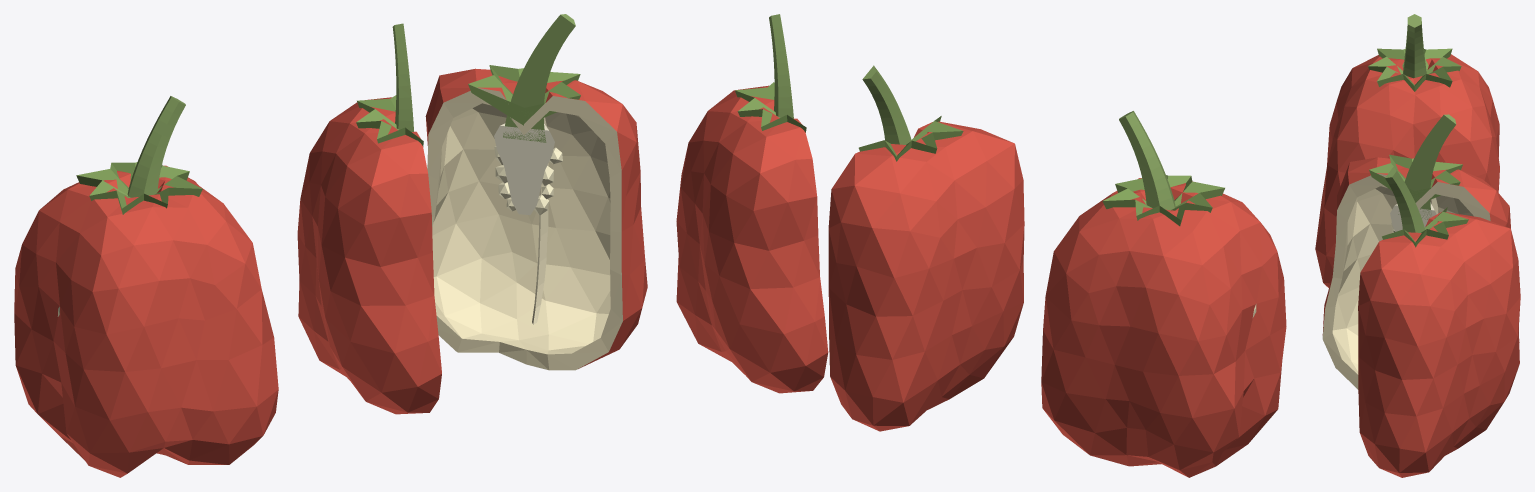
Rendered from chile panameño.fbx.
3 renders of one model, left to right at view 1: azimuth 30°, elevation 25°; view 2: azimuth 150°, elevation 25°; view 3: azimuth 270°, elevation 25°, orthographic. The views are drawn at different scales.
Parts seen in each view (by area): view 1: Entero_Cascara, MitadA_Cascara.001, MitadA_Cascara, MitadA_Placenta.001, MitadA_Tallo.001, Entero_Caliz, Entero_Tallo, MitadA_Caliz.001, MitadA_Tallo, MitadA_Caliz, MitadA_Semillas.001, MitadA_Tabiques.001; view 2: Entero_Cascara, MitadA_Cascara, MitadA_Cascara.001, Entero_Caliz, Entero_Tallo, MitadA_Tallo, MitadA_Tallo.001, MitadA_Caliz.001, MitadA_Caliz; view 3: MitadA_Cascara.001, Entero_Cascara, MitadA_Cascara, MitadA_Tallo, Entero_Caliz, MitadA_Caliz, MitadA_Tallo.001, Entero_Tallo, MitadA_Caliz.001, MitadA_Placenta.
Part boxes in pixels (<box>): Entero_Cascara: <box>14,165,278,477</box>; MitadA_Cascara.001: <box>425,68,647,370</box>; MitadA_Cascara: <box>297,97,441,414</box>; MitadA_Placenta.001: <box>494,123,554,215</box>; MitadA_Tallo.001: <box>503,14,575,142</box>; Entero_Caliz: <box>76,162,202,214</box>; Entero_Tallo: <box>127,96,185,197</box>; MitadA_Caliz.001: <box>468,65,580,125</box>; MitadA_Tallo: <box>392,23,413,131</box>; MitadA_Caliz: <box>356,95,423,146</box>; MitadA_Semillas.001: <box>494,146,562,215</box>; MitadA_Tabiques.001: <box>532,117,548,324</box>; Entero_Cascara: <box>1041,178,1286,477</box>; MitadA_Cascara: <box>828,121,1024,431</box>; MitadA_Cascara.001: <box>676,85,828,393</box>; Entero_Caliz: <box>1102,175,1224,226</box>; Entero_Tallo: <box>1119,111,1175,210</box>; MitadA_Tallo: <box>862,65,911,144</box>; MitadA_Tallo.001: <box>769,14,793,118</box>; MitadA_Caliz.001: <box>735,82,806,132</box>; MitadA_Caliz: <box>858,116,963,161</box>; MitadA_Cascara.001: <box>1358,212,1520,477</box>; Entero_Cascara: <box>1315,54,1499,287</box>; MitadA_Cascara: <box>1322,157,1519,389</box>; MitadA_Tallo: <box>1398,114,1456,219</box>; Entero_Caliz: <box>1368,48,1461,91</box>; MitadA_Caliz: <box>1369,154,1462,202</box>; MitadA_Tallo.001: <box>1385,166,1425,232</box>; Entero_Tallo: <box>1403,14,1426,78</box>; MitadA_Caliz.001: <box>1382,207,1468,247</box>; MitadA_Placenta: <box>1390,202,1436,231</box>.
Size of the model in its own units: 462 by 265 by 166.
